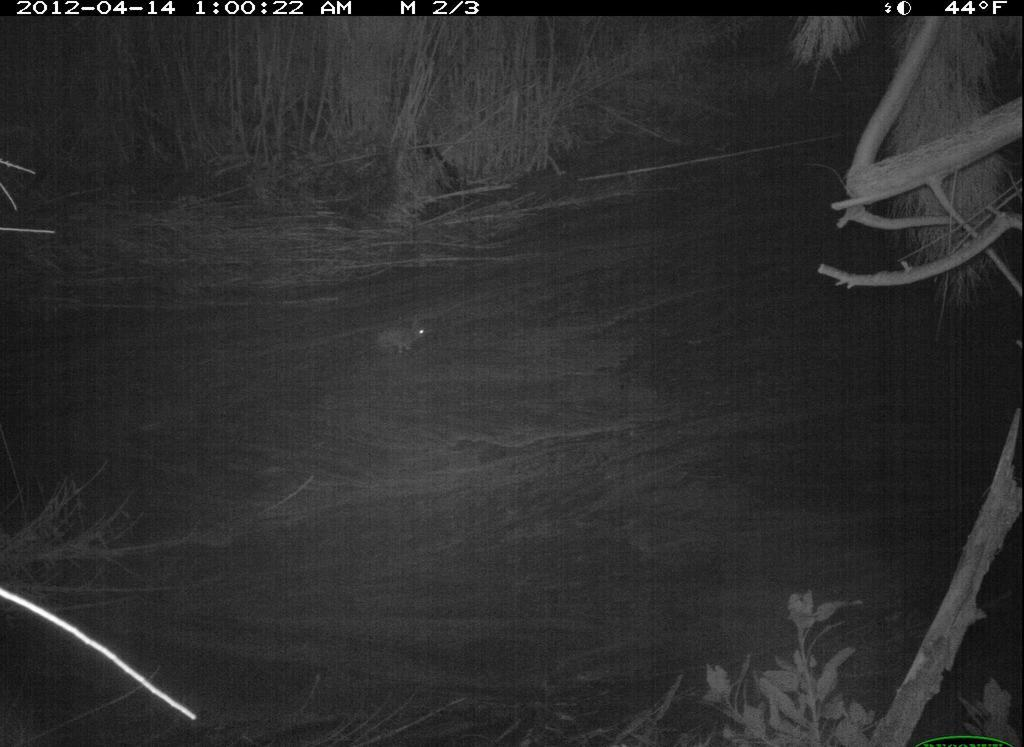rabbit: (369, 303, 436, 367)
